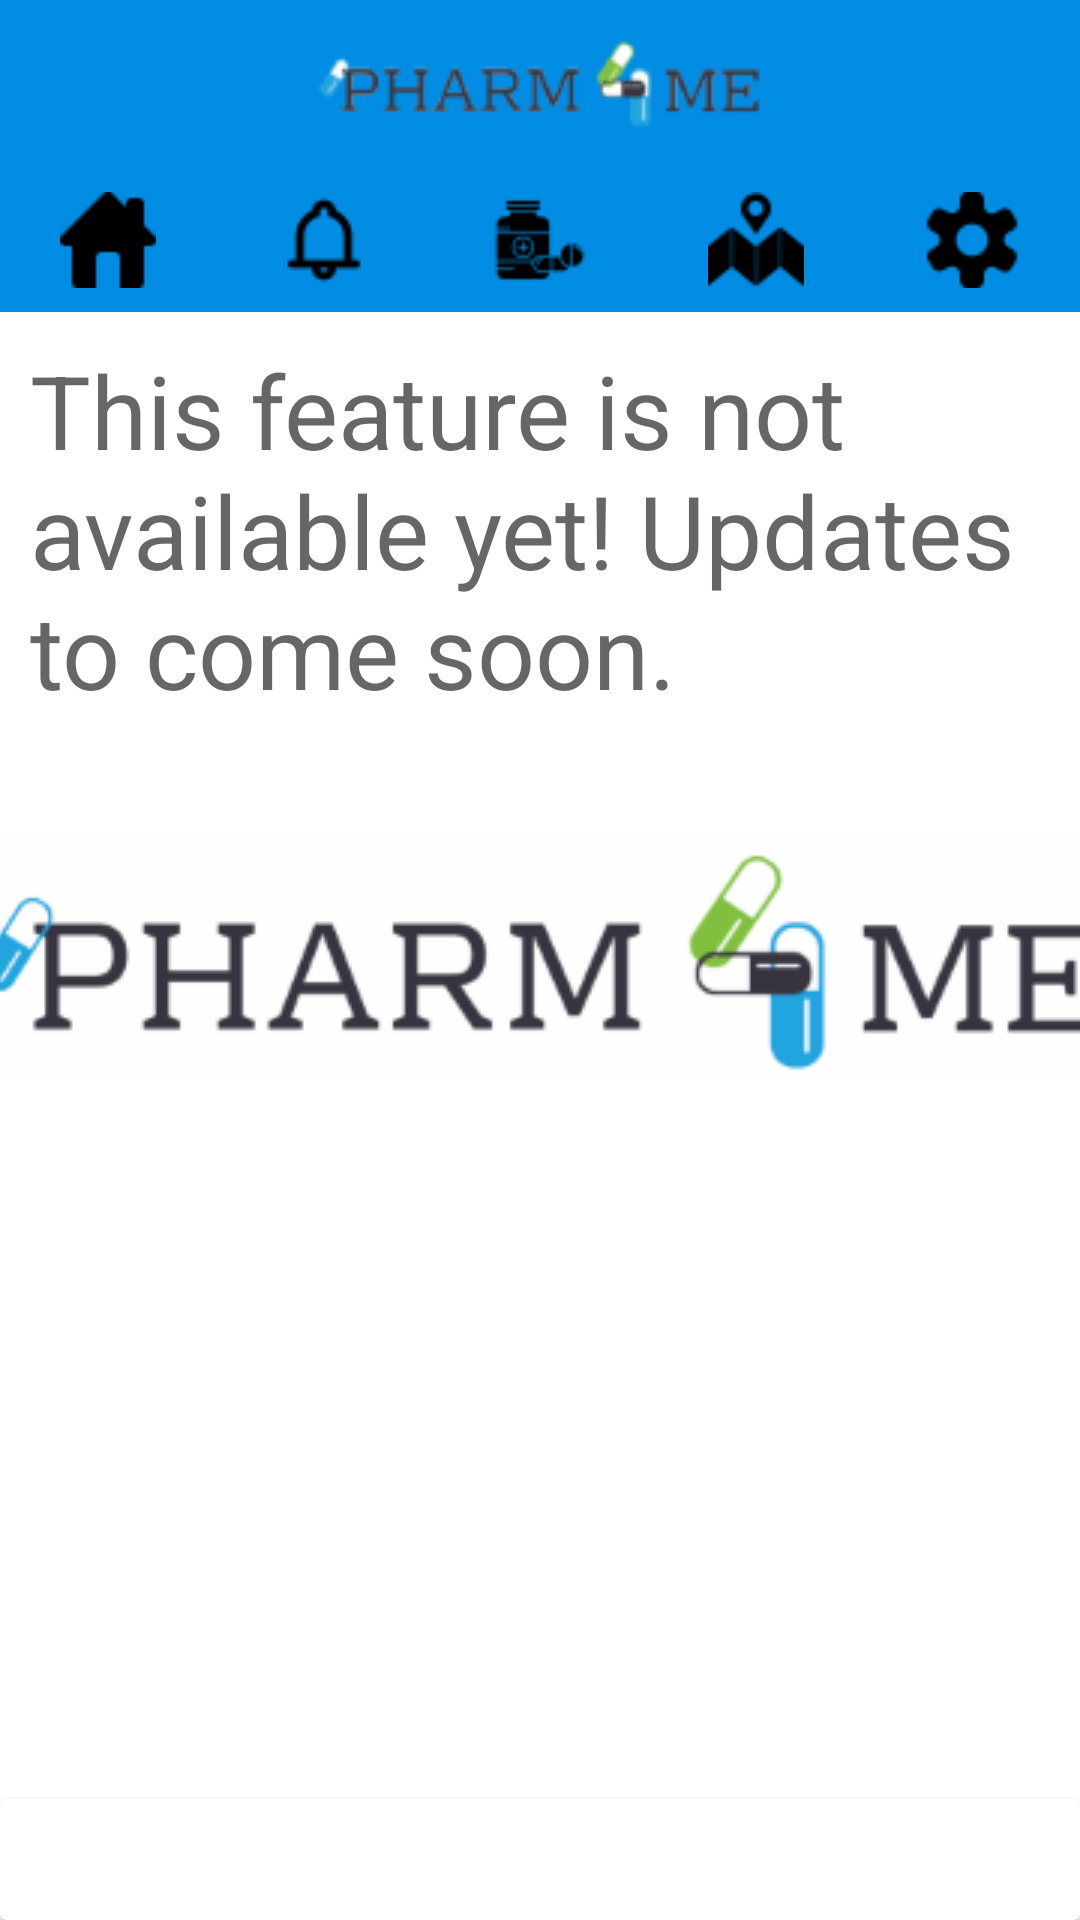

Icons on this 1080w x 1920h Android screen, each with its box as [x1, y1, x2, y2]:
home: [60, 192, 156, 288]
location: [708, 192, 804, 286]
notification: [287, 198, 361, 282]
prescription: [494, 200, 586, 280]
settings: [926, 192, 1018, 288]
